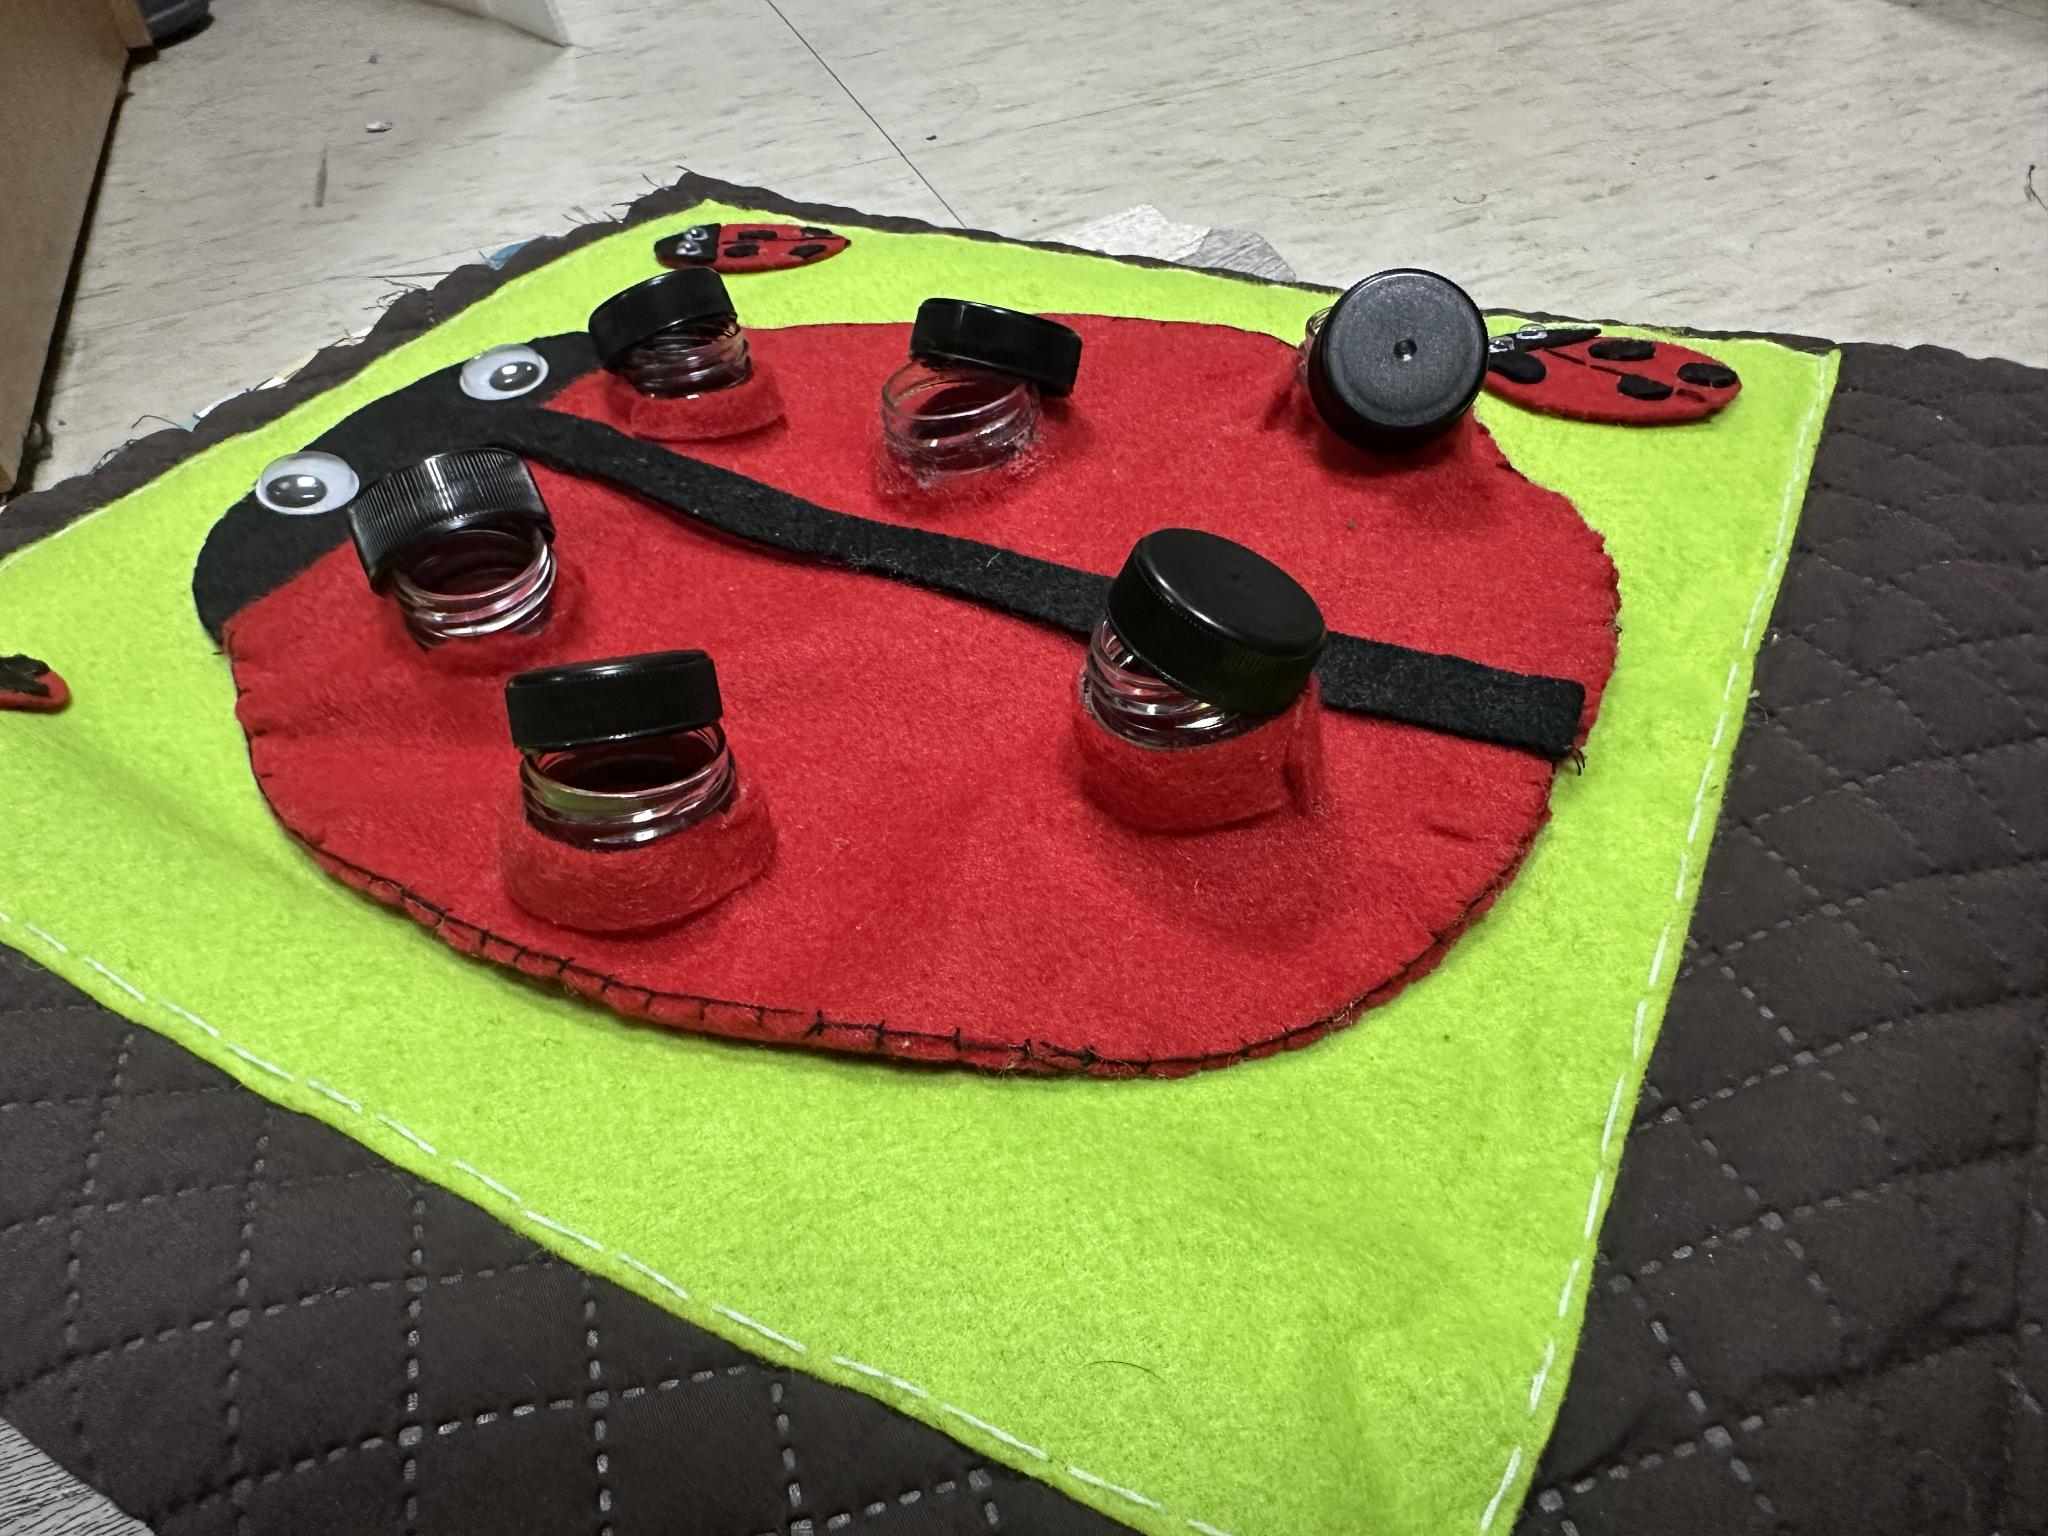cap_ng: (1061, 507, 1364, 866), (477, 632, 792, 970), (316, 429, 587, 673), (879, 273, 1105, 502), (1277, 250, 1508, 466), (574, 263, 801, 455)
